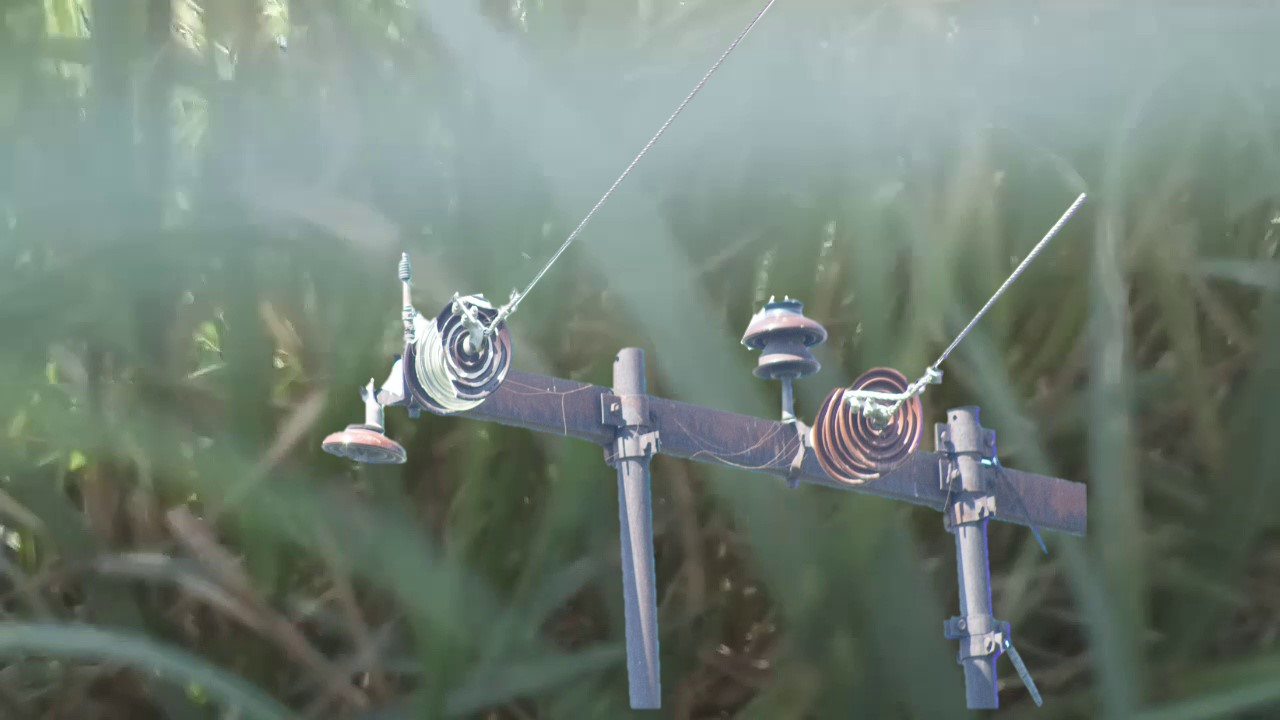defect_disc: (431, 289, 516, 405)
insulator_disc: (831, 360, 929, 474), (314, 407, 412, 473)
